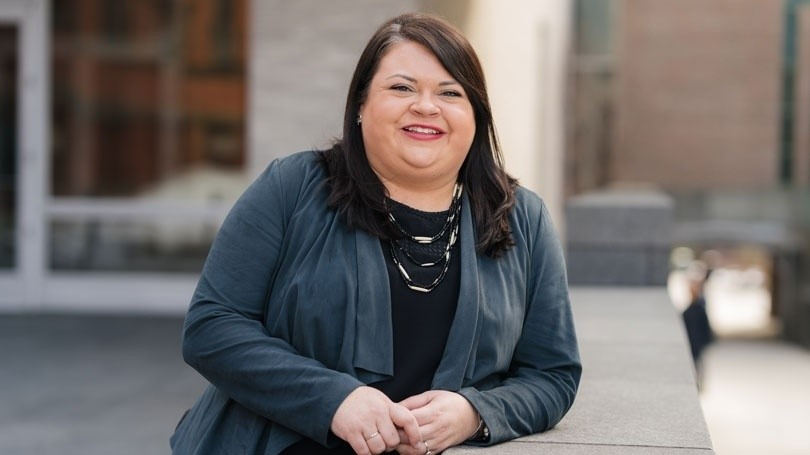face_no_mask: (350, 24, 486, 194)
